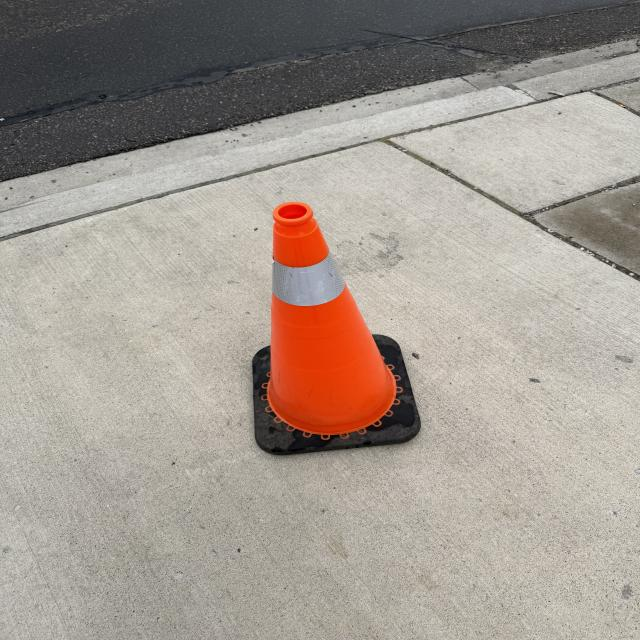Traffic Cone: (247, 200, 423, 454)
